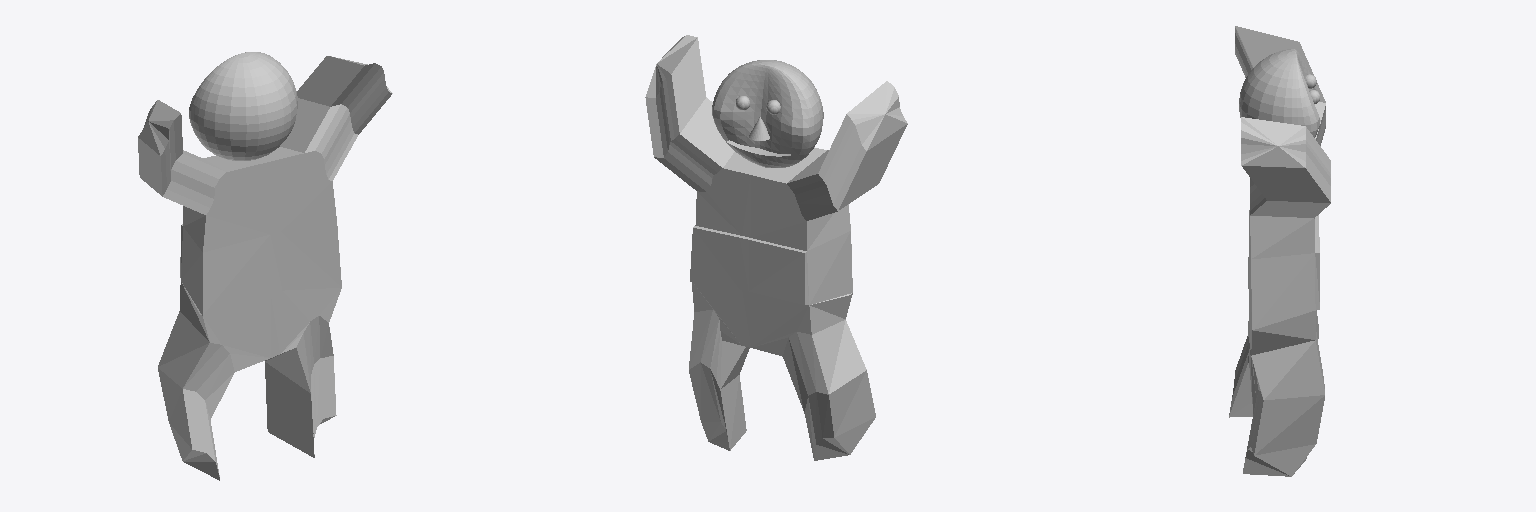
Rendered from man_000003.obj.
3 renders of one model, left to right at view 1: azimuth 30°, elevation 25°; view 2: azimuth 150°, elevation 25°; view 3: azimuth 270°, elevation 25°, orthographic.
Parts seen in each view (by area): view 1: Cube; view 2: Cube; view 3: Cube.
Boxes of the visible parts, x1,y1,x2,y2 form: Cube: [138, 52, 392, 480]; Cube: [645, 35, 907, 460]; Cube: [1229, 26, 1330, 476].
Size of the model in its own units: 79.08 by 128 by 29.93.